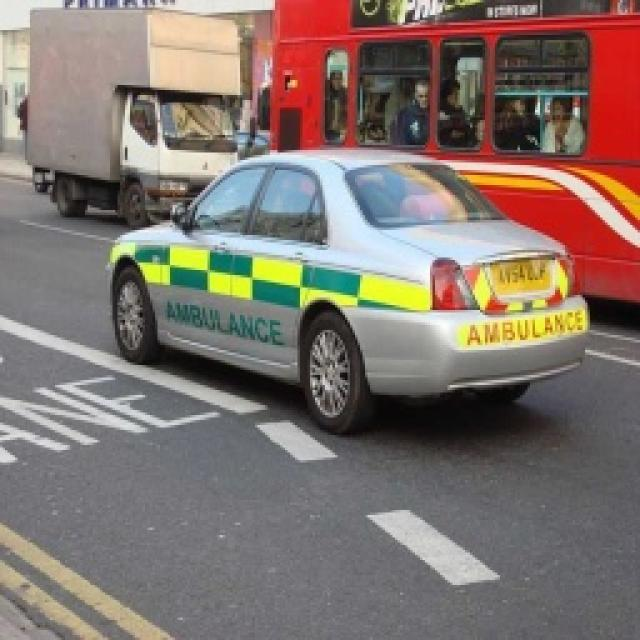ambulance: (97, 0, 595, 430)
